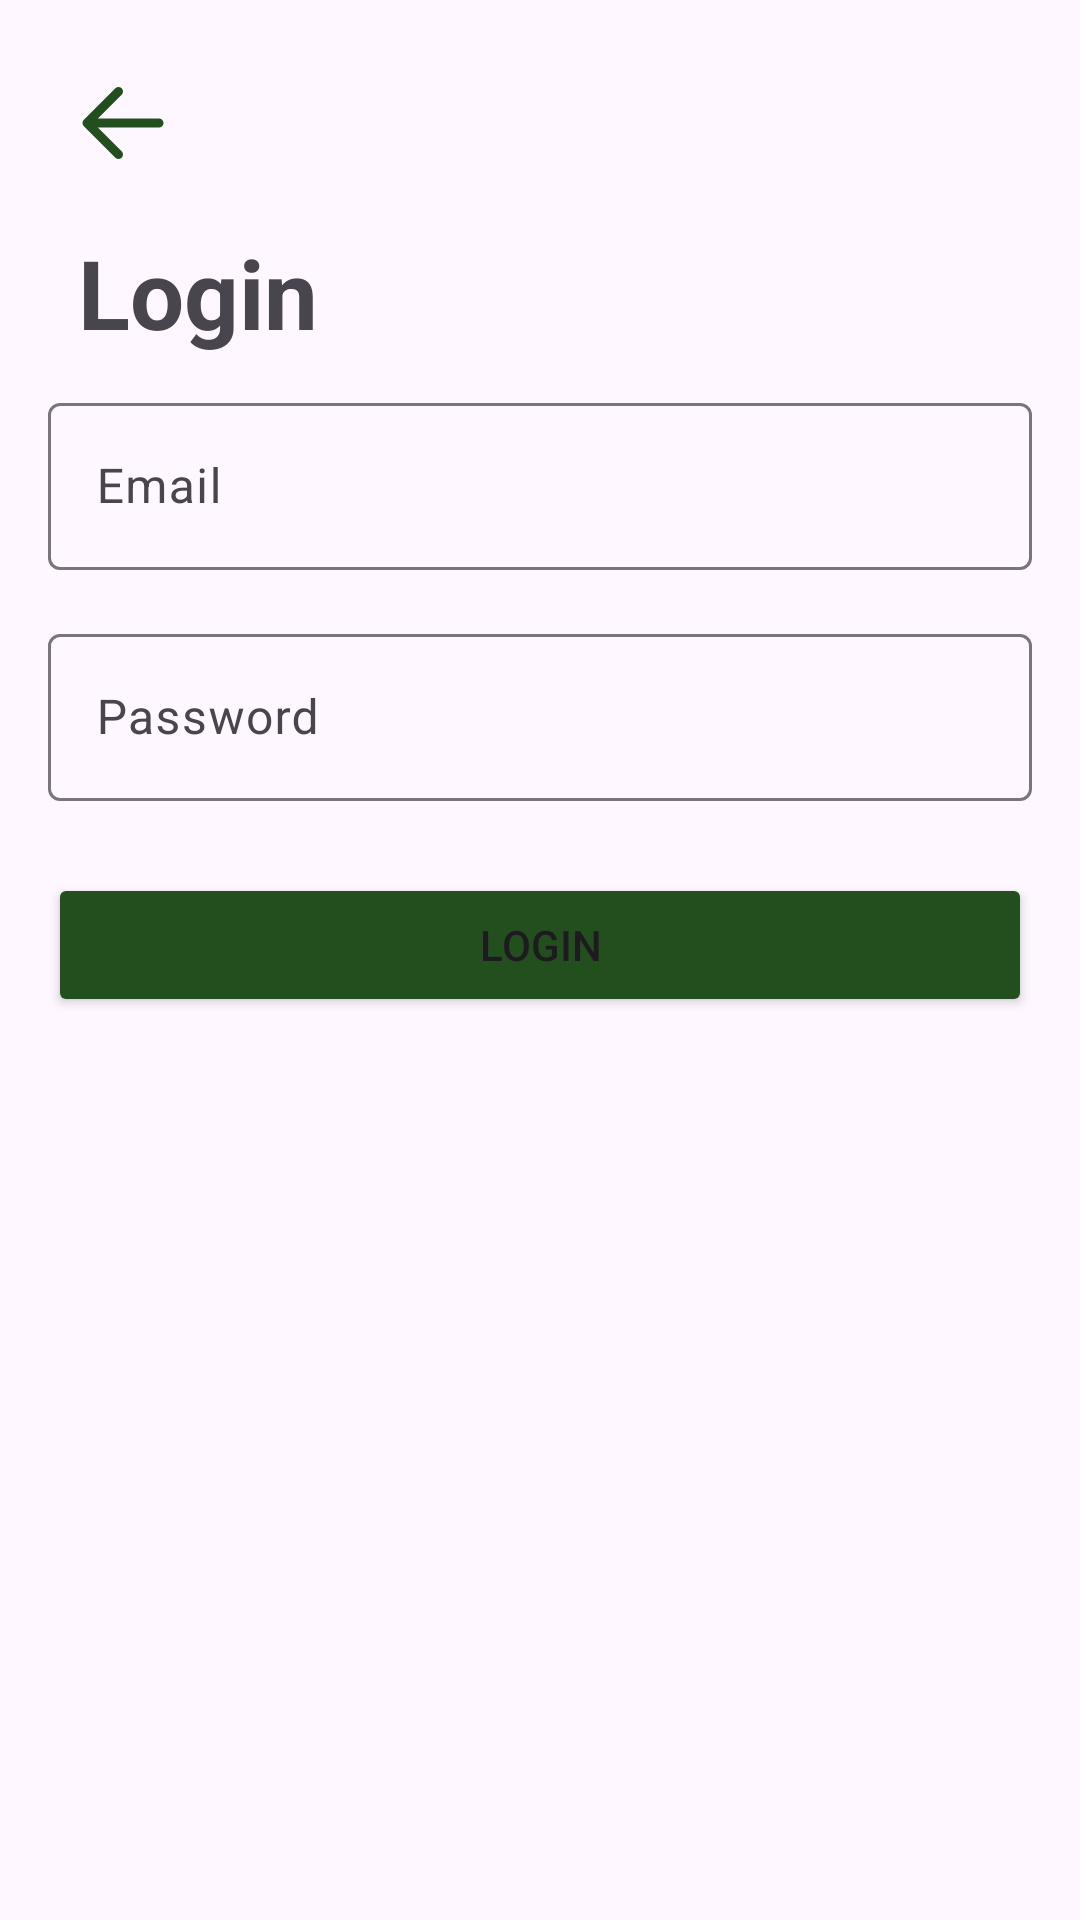

Screen size 1080px x 1920px. Icon name, then its box in pixels as rect(x1, y1, x2, y2):
back arrow: rect(82, 87, 164, 159)
